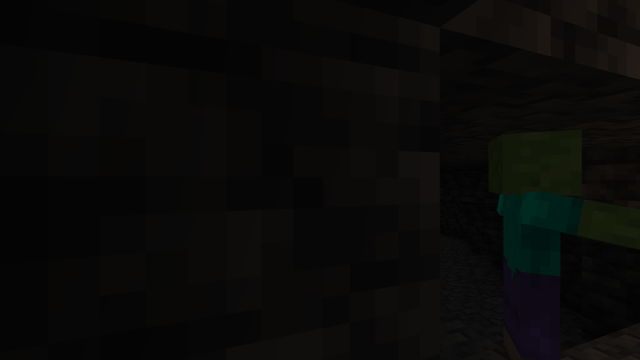zombies: (472, 134, 593, 358)
